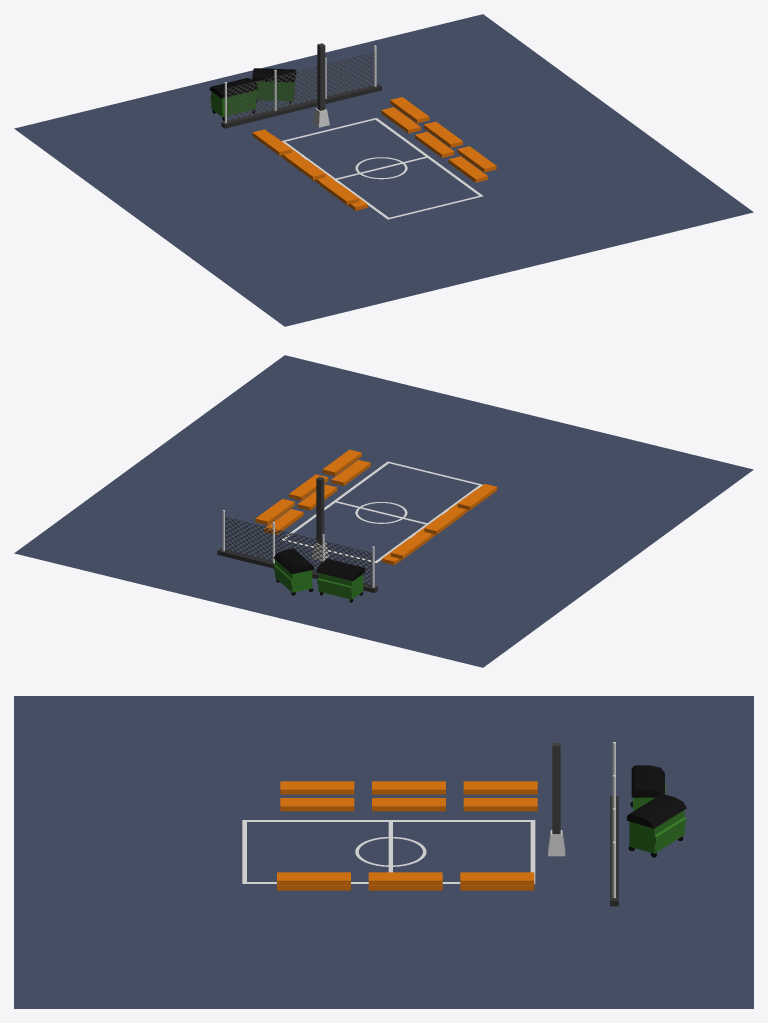
The model's file is Street_level.fbx.
3 renders of one model, top to bottom at view 1: azimuth 30°, elevation 25°; view 2: azimuth 150°, elevation 25°; view 3: azimuth 270°, elevation 25°, orthographic. The views are drawn at different scales.
Parts seen in each view (by area): view 1: Plane.011, Cube.018, Plane.015, Cube.021, Plane.012, Cube.016, Cube.019, Cube.020, Cube.017; view 2: Plane.011, Cube.018, Plane.015, Cube.021, Cube.016, Plane.012, Cube.019, Cube.017, Cube.020; view 3: Plane.011, Cube.021, Cube.018, Cube.019, Plane.012, Cube.016, Cube.017, Cube.020, Cylinder.015.
Part boxes in pixels (x1,y1,x2,y2): Plane.011: [14, 14, 753, 326]; Cube.018: [381, 97, 496, 182]; Plane.015: [227, 52, 374, 121]; Cube.021: [252, 129, 367, 210]; Plane.012: [282, 118, 483, 219]; Cube.016: [209, 78, 258, 120]; Cube.019: [252, 68, 296, 104]; Cube.020: [221, 84, 381, 128]; Cube.017: [312, 43, 329, 127]; Plane.011: [14, 355, 753, 667]; Cube.018: [255, 449, 370, 535]; Plane.015: [225, 517, 372, 586]; Cube.021: [382, 484, 497, 565]; Cube.016: [316, 558, 365, 602]; Plane.012: [282, 461, 482, 562]; Cube.019: [274, 548, 313, 595]; Cube.017: [312, 476, 328, 560]; Cube.020: [217, 548, 377, 592]; Plane.011: [14, 696, 753, 1008]; Cube.021: [280, 781, 537, 811]; Cube.018: [277, 872, 534, 890]; Cube.019: [627, 793, 686, 857]; Plane.012: [242, 820, 535, 883]; Cube.016: [630, 765, 665, 811]; Cube.017: [548, 743, 565, 856]; Cube.020: [610, 796, 618, 906]; Cylinder.015: [612, 742, 615, 898].
Size of the model in its own units: 2000 by 340 by 2000.
